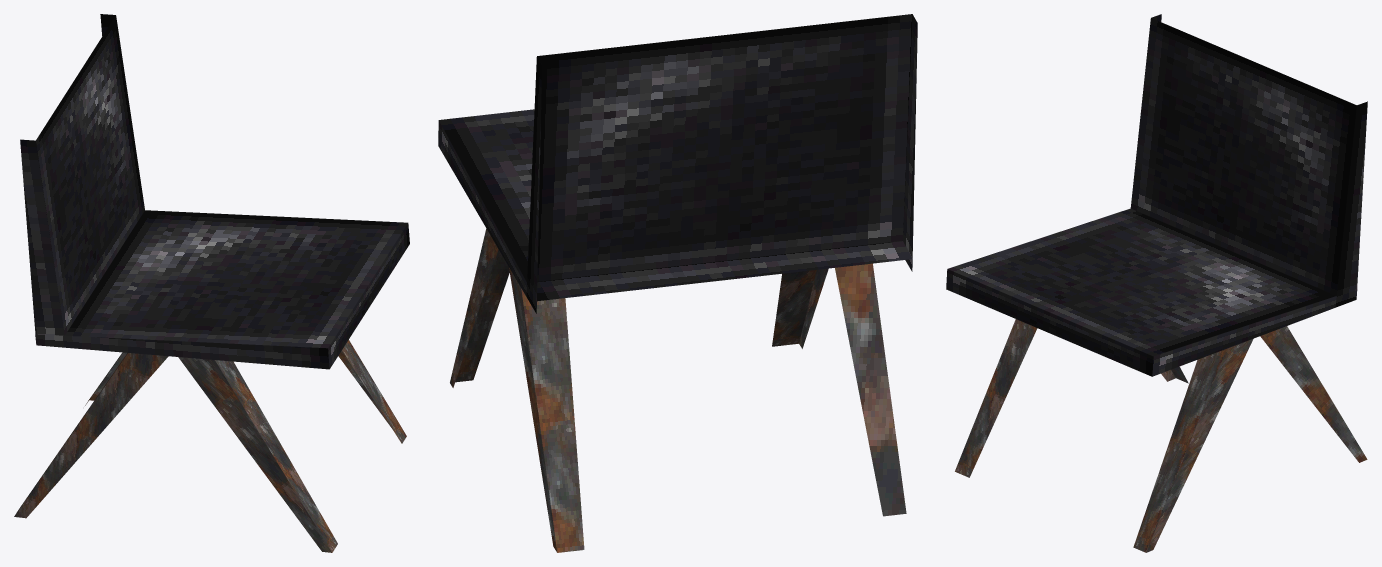
The model's file is primary_169.glb.
The picture shows the model from 3 angles, left to right: view 1: azimuth 30°, elevation 25°; view 2: azimuth 150°, elevation 25°; view 3: azimuth 270°, elevation 25°; orthographic projection. The views are drawn at different scales.
Parts seen in each view (by area): view 1: Object; view 2: Object; view 3: Object.
Part boxes in pixels (bbox=[...]): Object: bbox=[14, 14, 409, 552]; Object: bbox=[438, 14, 917, 552]; Object: bbox=[946, 14, 1367, 552].
Bounding box in the file's own units: 0.9365 × 0.8928 × 0.9366.
Materials: 2 (2 with a texture image).
